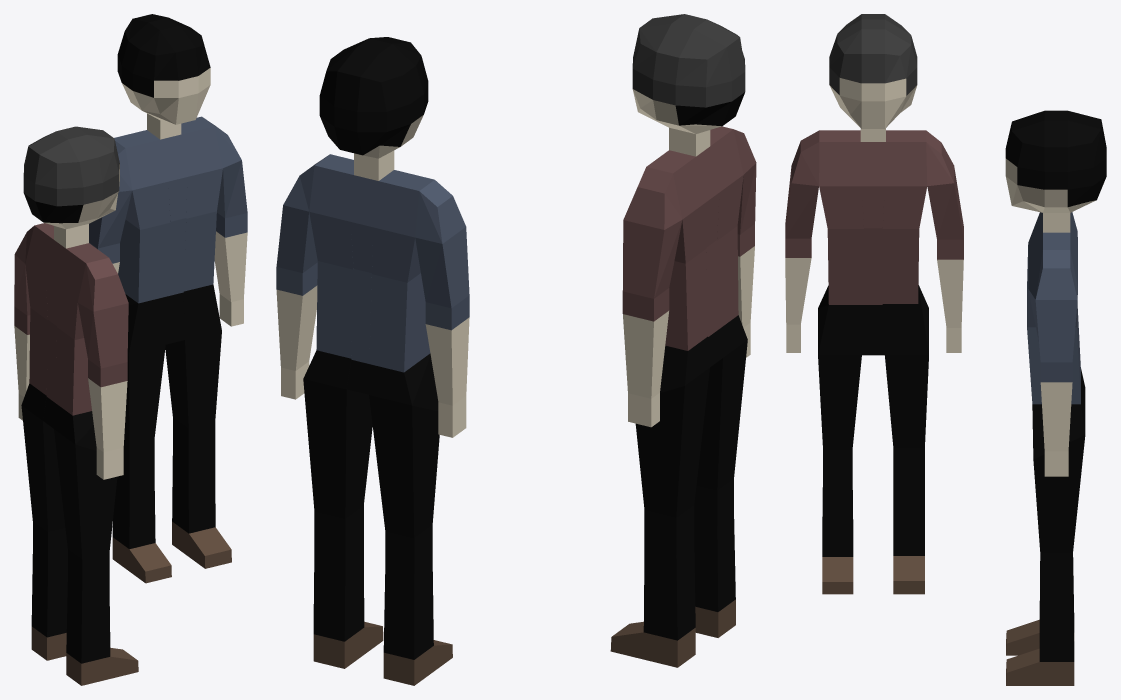
File: Two Guys.fbx
The picture shows the model from 3 angles, left to right: view 1: azimuth 30°, elevation 25°; view 2: azimuth 150°, elevation 25°; view 3: azimuth 270°, elevation 25°; orthographic projection. The views are drawn at different scales.
Visible parts, largest first — view 1: NPC, pasted__NPC; view 2: NPC, pasted__NPC; view 3: pasted__NPC, NPC.
Part boxes in pixels (left/top/right/bottom): NPC: left=89, top=14, right=247, bottom=583; pasted__NPC: left=14, top=126, right=138, bottom=685; NPC: left=276, top=37, right=469, bottom=685; pasted__NPC: left=610, top=14, right=756, bottom=667; pasted__NPC: left=785, top=14, right=963, bottom=594; NPC: left=1005, top=110, right=1106, bottom=685.
Bounding box in the file's own units: 2.54 × 4.3 × 2.29.
